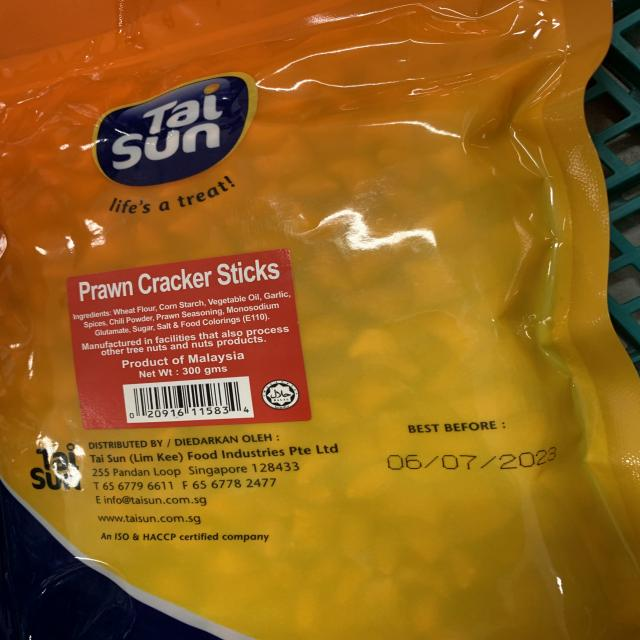object_name: (7, 4, 629, 635)
